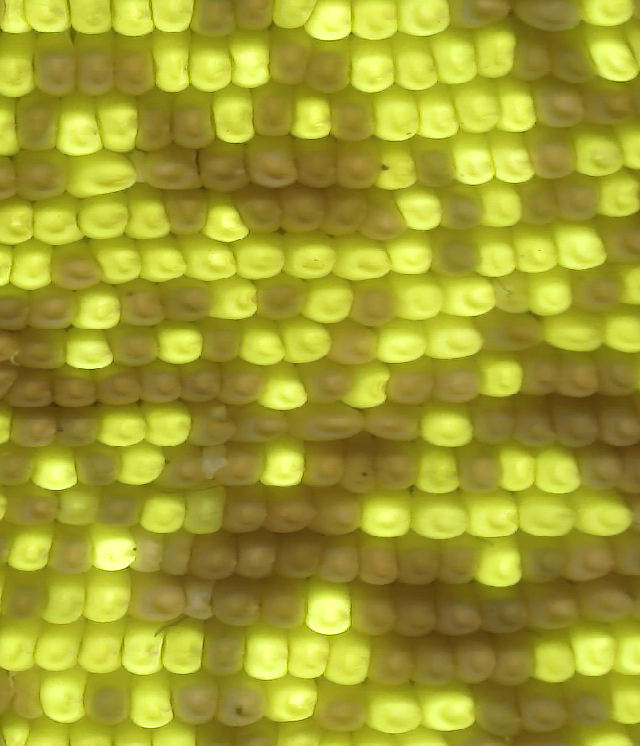fluorescent: (512, 486, 580, 539), (414, 486, 473, 543), (415, 682, 479, 733), (569, 487, 633, 537), (439, 272, 507, 319), (586, 25, 640, 83), (78, 612, 128, 674), (54, 92, 102, 156), (304, 578, 353, 640), (322, 624, 370, 687), (72, 150, 139, 195), (206, 272, 263, 324), (465, 492, 522, 544), (226, 30, 274, 91), (527, 629, 579, 685), (370, 86, 421, 143), (568, 619, 618, 677), (365, 683, 421, 734), (390, 274, 449, 322), (125, 674, 175, 730), (511, 218, 560, 275), (335, 230, 394, 277), (37, 674, 91, 725), (518, 267, 574, 316), (394, 34, 442, 91), (95, 92, 139, 154), (125, 619, 172, 677), (159, 616, 205, 675), (573, 123, 625, 175), (241, 624, 289, 680), (548, 309, 609, 353), (495, 77, 541, 135), (214, 86, 257, 148), (360, 490, 414, 539), (415, 441, 463, 496), (188, 35, 233, 93), (86, 567, 131, 625), (301, 274, 352, 325), (152, 32, 193, 95), (348, 40, 396, 93), (435, 30, 480, 86), (269, 675, 320, 724), (474, 20, 517, 78), (73, 285, 126, 332), (260, 437, 307, 490), (285, 627, 330, 682), (36, 624, 85, 674), (89, 525, 138, 574), (556, 223, 606, 271), (459, 83, 505, 135), (390, 187, 442, 233), (0, 35, 37, 99), (416, 88, 459, 143), (43, 572, 86, 627), (79, 192, 128, 240), (137, 237, 186, 285), (427, 319, 483, 361), (30, 197, 81, 243), (285, 234, 336, 280), (375, 138, 420, 190), (241, 229, 285, 282), (184, 238, 239, 280), (285, 314, 331, 364), (537, 449, 584, 497), (495, 128, 533, 186), (593, 171, 640, 217), (96, 240, 142, 287), (242, 322, 288, 369), (10, 241, 52, 292), (475, 233, 520, 280), (478, 539, 523, 586), (481, 180, 523, 230), (98, 406, 149, 446), (186, 485, 223, 540), (146, 404, 191, 449), (453, 139, 496, 186), (295, 91, 335, 141), (0, 620, 39, 671), (126, 196, 170, 241), (425, 403, 469, 448), (142, 493, 186, 538), (380, 322, 426, 365), (401, 1, 454, 38), (480, 356, 525, 399), (306, 1, 352, 43), (115, 444, 162, 485), (0, 196, 39, 245), (67, 328, 110, 372), (35, 449, 78, 492), (264, 371, 310, 411), (14, 522, 52, 570), (391, 232, 432, 276), (159, 324, 202, 365), (347, 366, 390, 407), (351, 3, 401, 38), (609, 671, 640, 725), (111, 1, 160, 35), (26, 1, 76, 34), (205, 206, 246, 246), (63, 487, 101, 530), (599, 316, 640, 353), (152, 1, 196, 35), (71, 1, 112, 37), (582, 1, 628, 29), (0, 716, 34, 746), (2, 1, 30, 37)
nonfluorescent: (74, 25, 122, 101), (80, 672, 136, 732), (472, 583, 533, 637), (125, 572, 188, 624), (110, 30, 158, 98), (32, 28, 79, 97), (577, 74, 637, 127), (528, 78, 585, 133), (243, 137, 301, 191), (194, 143, 252, 196), (558, 533, 616, 586), (323, 87, 377, 143), (485, 308, 549, 355), (552, 23, 600, 85), (407, 134, 460, 190), (46, 241, 105, 291), (17, 92, 63, 156), (311, 678, 365, 732), (244, 82, 294, 140), (265, 482, 320, 534), (0, 569, 52, 624), (222, 674, 274, 729), (132, 85, 174, 153), (146, 145, 206, 192), (528, 128, 580, 182), (264, 27, 310, 88), (306, 37, 354, 95), (205, 441, 263, 488), (27, 281, 79, 333), (385, 357, 437, 409), (347, 278, 400, 329), (551, 397, 604, 448), (467, 686, 522, 735), (216, 486, 272, 534), (175, 83, 215, 150), (232, 399, 289, 446), (232, 182, 284, 233), (188, 530, 239, 582), (162, 186, 212, 239), (162, 272, 212, 325), (256, 272, 309, 322), (393, 534, 443, 587), (16, 150, 70, 199), (522, 587, 583, 630), (299, 357, 352, 406), (332, 134, 380, 188), (512, 175, 560, 229), (4, 481, 60, 527), (296, 401, 362, 440), (469, 398, 520, 448), (190, 399, 241, 449), (562, 678, 614, 727), (575, 443, 622, 497), (316, 533, 363, 587), (578, 582, 637, 625), (74, 439, 126, 487), (510, 24, 553, 82), (48, 523, 95, 576), (175, 670, 221, 724), (275, 525, 318, 582), (377, 439, 422, 493), (595, 343, 636, 402), (456, 441, 505, 490), (363, 401, 423, 441), (432, 229, 483, 276), (109, 320, 160, 367), (441, 180, 483, 237), (514, 393, 560, 445), (310, 487, 359, 535), (577, 262, 623, 313), (267, 578, 312, 630), (117, 281, 167, 327), (364, 187, 405, 243), (358, 534, 402, 586), (21, 328, 68, 376), (157, 443, 205, 490), (454, 640, 501, 688), (435, 354, 481, 403), (231, 533, 277, 582), (520, 533, 565, 583), (436, 537, 480, 588), (299, 134, 337, 193), (281, 187, 327, 235), (558, 172, 600, 224), (201, 618, 243, 670), (301, 440, 347, 487), (217, 581, 264, 627), (556, 348, 598, 399), (522, 686, 568, 732), (323, 188, 368, 235), (131, 362, 181, 404), (600, 212, 640, 264), (349, 591, 394, 637), (53, 364, 98, 409), (489, 641, 535, 685), (100, 483, 143, 530), (601, 391, 639, 444), (336, 320, 380, 365), (435, 596, 481, 639), (180, 360, 227, 402), (510, 1, 578, 30), (341, 434, 374, 493), (370, 638, 414, 682), (520, 345, 556, 398), (96, 362, 141, 404), (205, 316, 244, 364), (10, 667, 44, 722), (415, 640, 458, 683), (12, 371, 56, 412), (396, 596, 438, 637), (455, 1, 504, 36), (223, 357, 260, 402), (0, 286, 32, 338), (11, 411, 53, 449), (184, 578, 221, 620), (159, 530, 193, 575), (57, 404, 93, 446), (188, 1, 233, 34), (0, 446, 37, 485), (236, 1, 276, 29), (191, 720, 233, 746), (232, 718, 270, 746)
